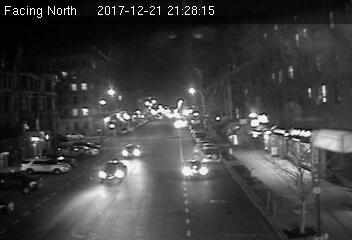car: (99, 160, 127, 181), (180, 160, 209, 178), (120, 143, 143, 157)
